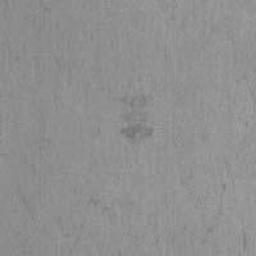Oil spot: (116, 91, 155, 155)
